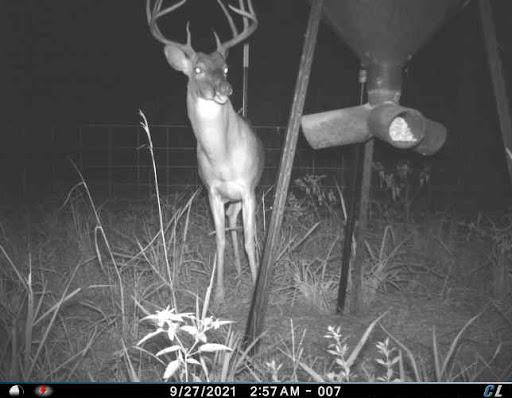Deer: (140, 0, 277, 310)
